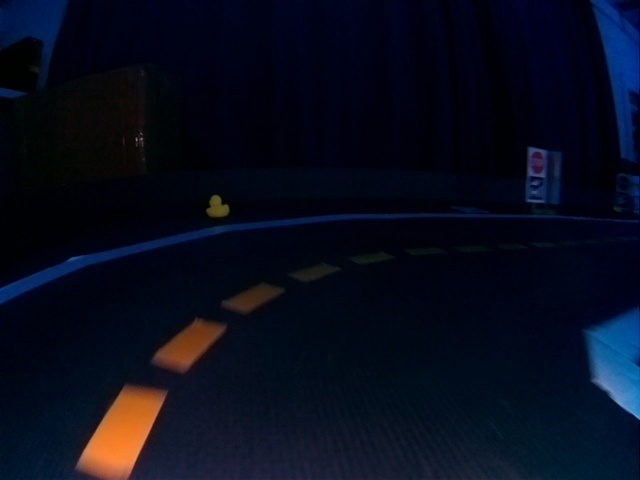Duckie: (206, 194, 229, 217)
QR code: (527, 178, 544, 201), (452, 206, 490, 216)
Stop sign: (529, 151, 545, 173), (617, 175, 628, 191)
